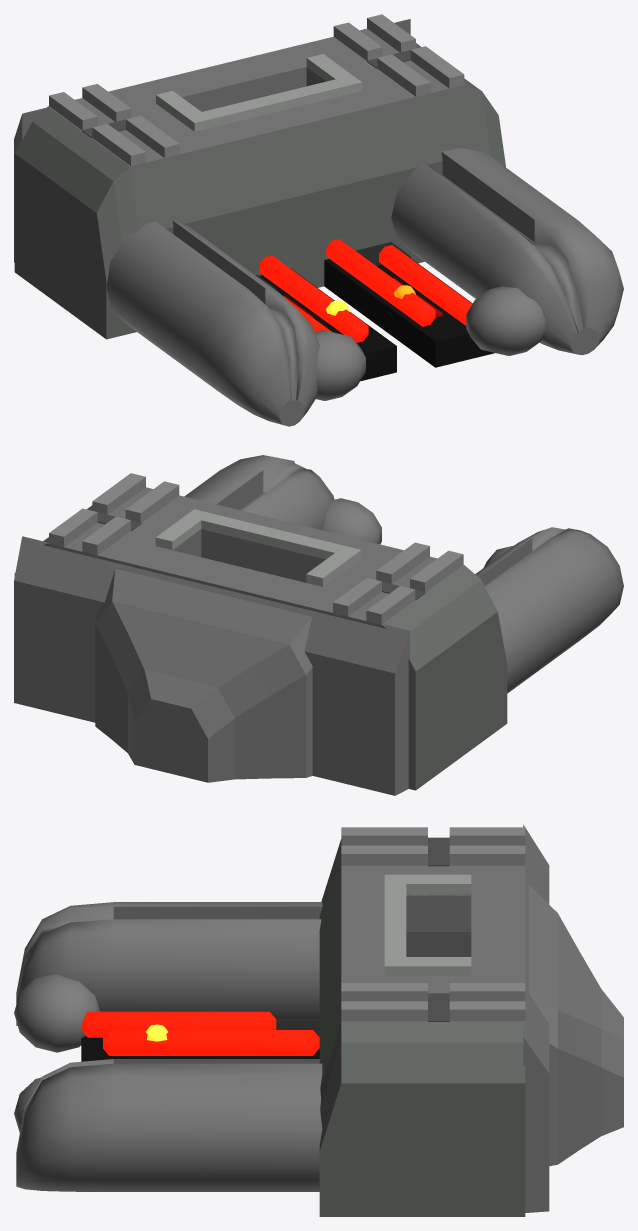
The model's file is newshk-283.glb.
The picture shows the model from 3 angles, top to bottom: view 1: azimuth 30°, elevation 25°; view 2: azimuth 150°, elevation 25°; view 3: azimuth 270°, elevation 25°; orthographic projection. The views are drawn at different scales.
Parts seen in each view (by area): view 1: newshk-283; view 2: newshk-283; view 3: newshk-283.
Part boxes in pixels (<box>): newshk-283: <box>14,14,623,426</box>; newshk-283: <box>14,455,623,795</box>; newshk-283: <box>14,824,623,1216</box>.
Bounding box in the file's own units: 2 × 0.8 × 2.35.
